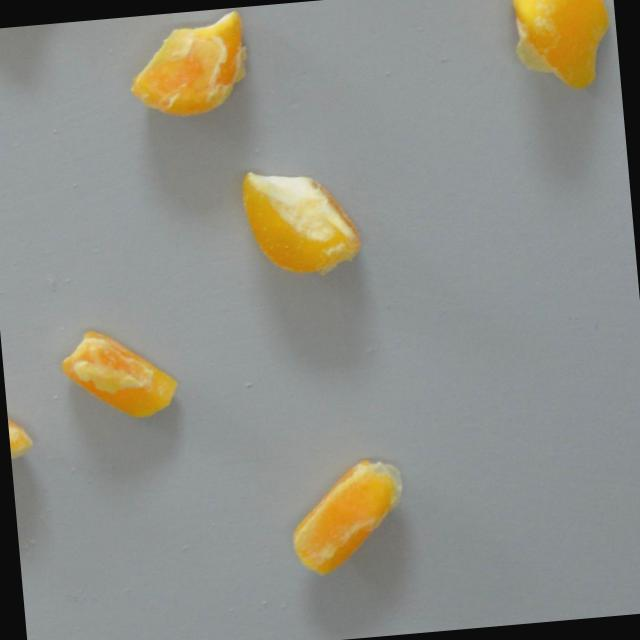dañado: (278, 450, 418, 581), (229, 157, 369, 285), (116, 5, 257, 126), (51, 319, 185, 432), (499, 0, 619, 102)
punto_negro: (5, 392, 43, 503)
